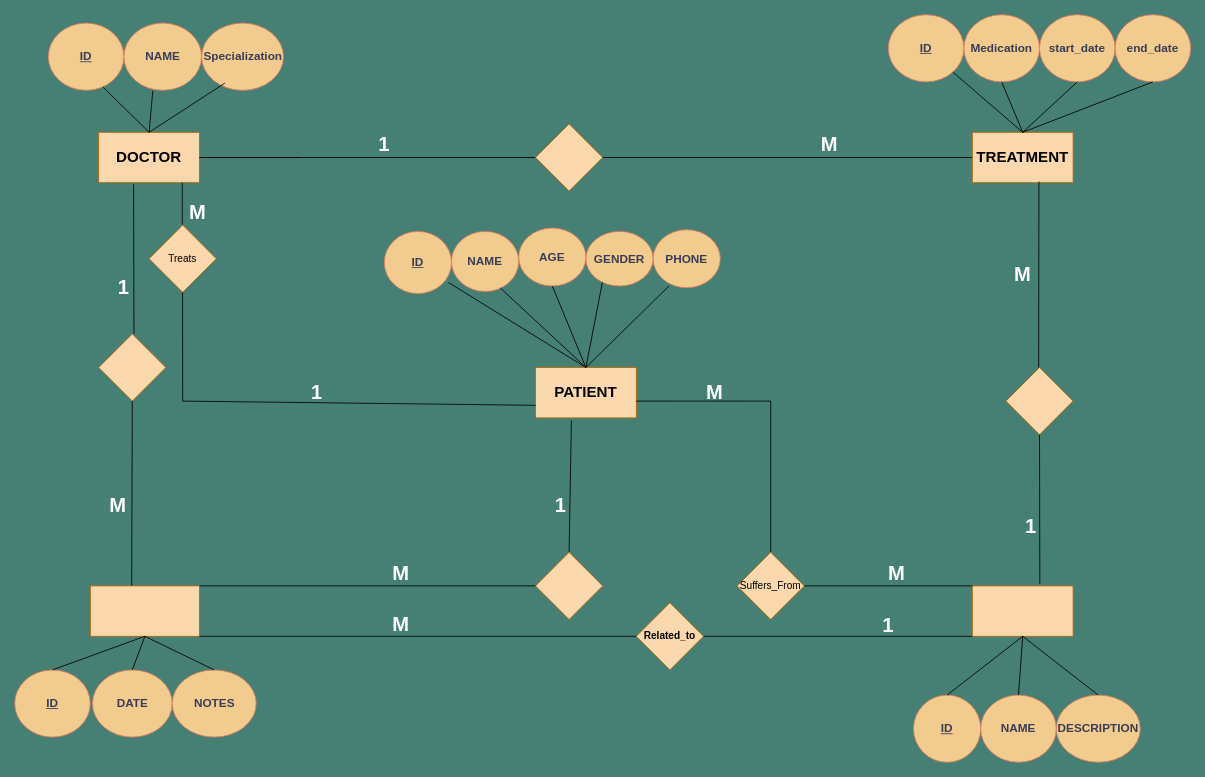
Image size: 1205x777. Some labels were removed from this diagram. The centre of each missing label's shape, as x and y in pixels:
APPOINTMENT: point (144, 610)
Books: point (569, 585)
Conducts: point (132, 367)
DISEASE: point (1022, 610)
Issues: point (569, 157)
Threated_by: point (1039, 401)
